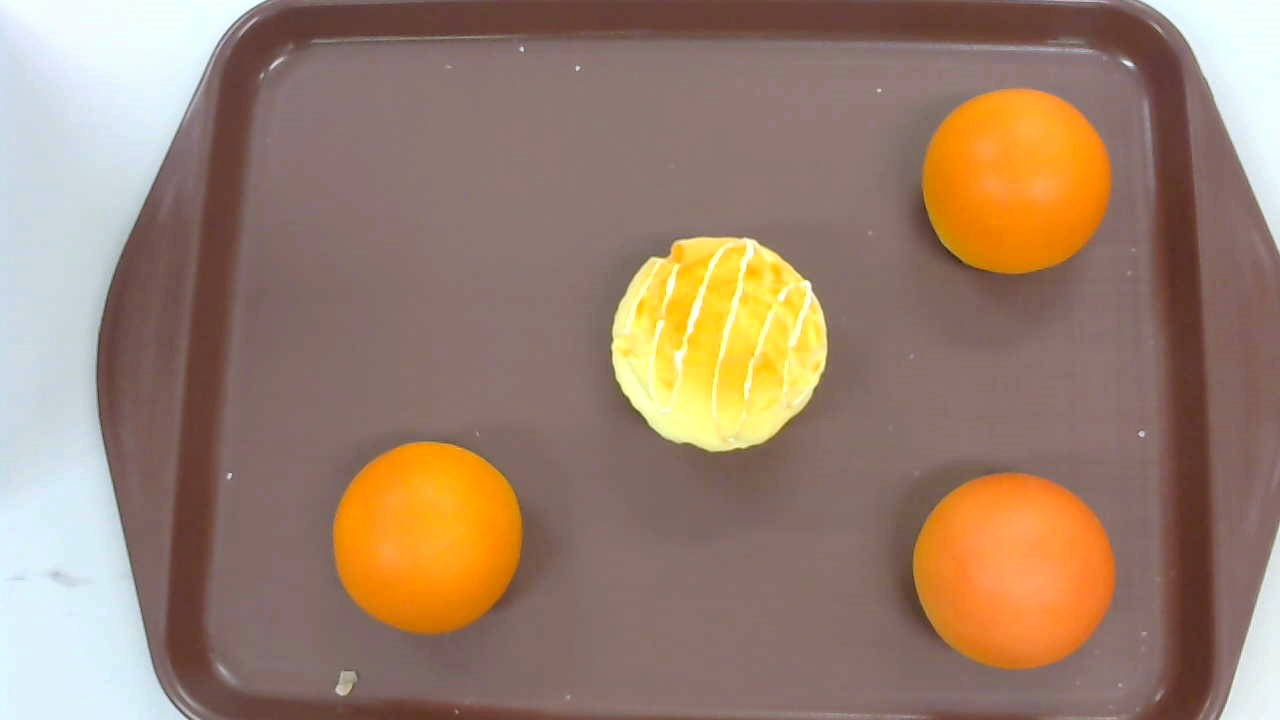bun: (913, 468, 1115, 670), (332, 438, 524, 633), (921, 86, 1110, 276)
cupcake: (610, 233, 828, 453)
